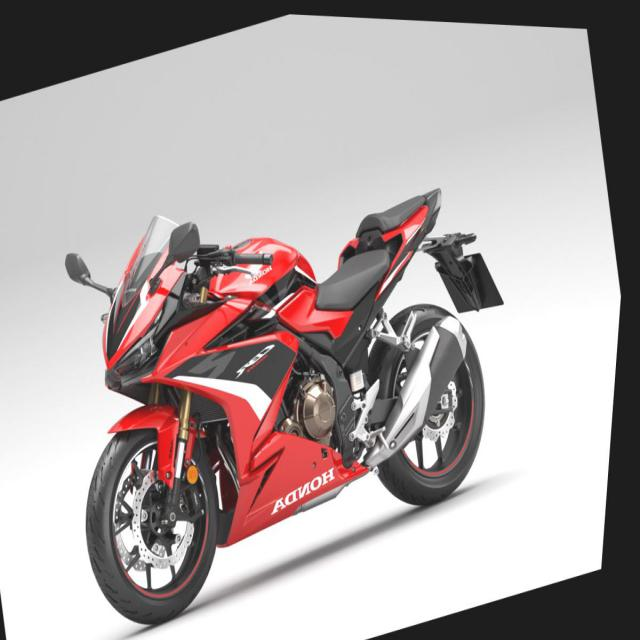CBR500R: (29, 98, 546, 640)
